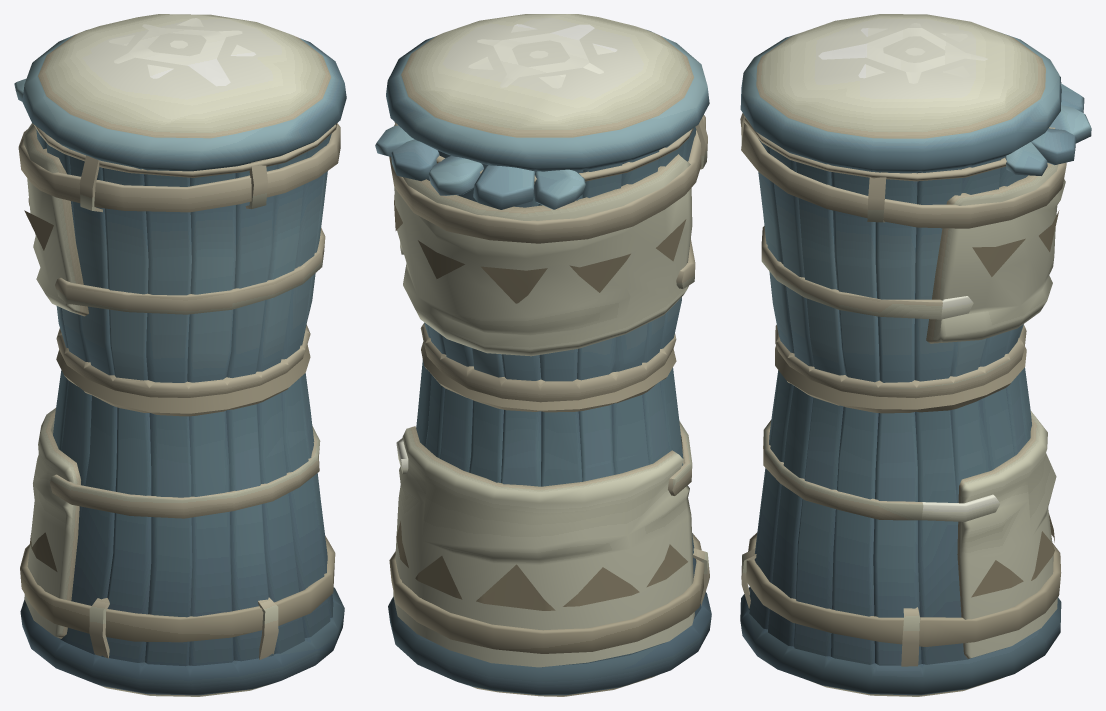
Rendered from CharSkyKid_Prop_AP08Dundun.glb.
3 views of the same model, side by side, from view 1: azimuth 30°, elevation 25°; view 2: azimuth 150°, elevation 25°; view 3: azimuth 270°, elevation 25° (orthographic).
Visible parts, largest first — view 1: CharSkyKid_Prop_AP08Dundun; view 2: CharSkyKid_Prop_AP08Dundun; view 3: CharSkyKid_Prop_AP08Dundun.
Part boxes in pixels (x1,y1,x2,y2): CharSkyKid_Prop_AP08Dundun: [14, 14, 346, 696]; CharSkyKid_Prop_AP08Dundun: [375, 14, 711, 696]; CharSkyKid_Prop_AP08Dundun: [740, 14, 1091, 696].
Bounding box in the file's own units: 2.99 × 6.15 × 3.21.
Materials: 1 (1 with a texture image).
